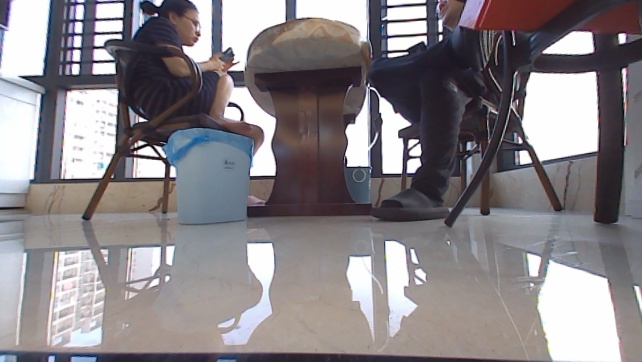dining_table: (78, 0, 565, 230)
person: (365, 2, 511, 225), (122, 1, 265, 151)
person_leg: (388, 73, 465, 192)
slipper: (363, 185, 450, 225)
trash_can: (166, 125, 252, 230)
